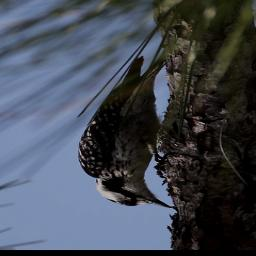Woodpecker: (69, 49, 184, 217)
